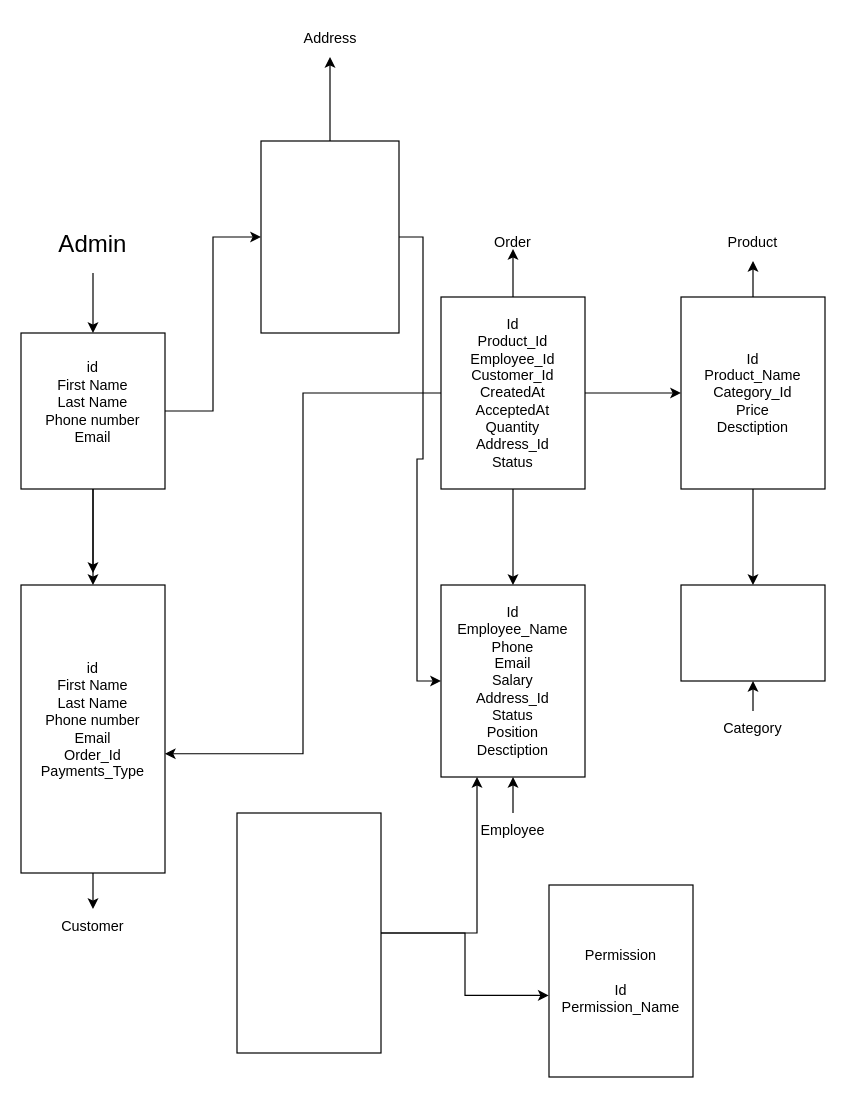
The diagram is 846 pixels wide and 1098 high, and some of its shapes have lost their labels. Here are the shapes that lost their labels. From the top down, the centre of each, then its label:
At point (329, 236): "id City District Street Home_number Description".
At point (752, 632): "Id Category_Name".
At point (308, 932): "Role Id Permission_Id Role_name".
